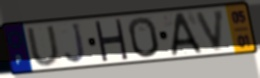A: (170, 11, 204, 58)
H: (93, 19, 130, 62)
J: (63, 21, 89, 65)
O: (127, 16, 162, 59)
U: (24, 24, 63, 68)
V: (194, 8, 227, 53)
